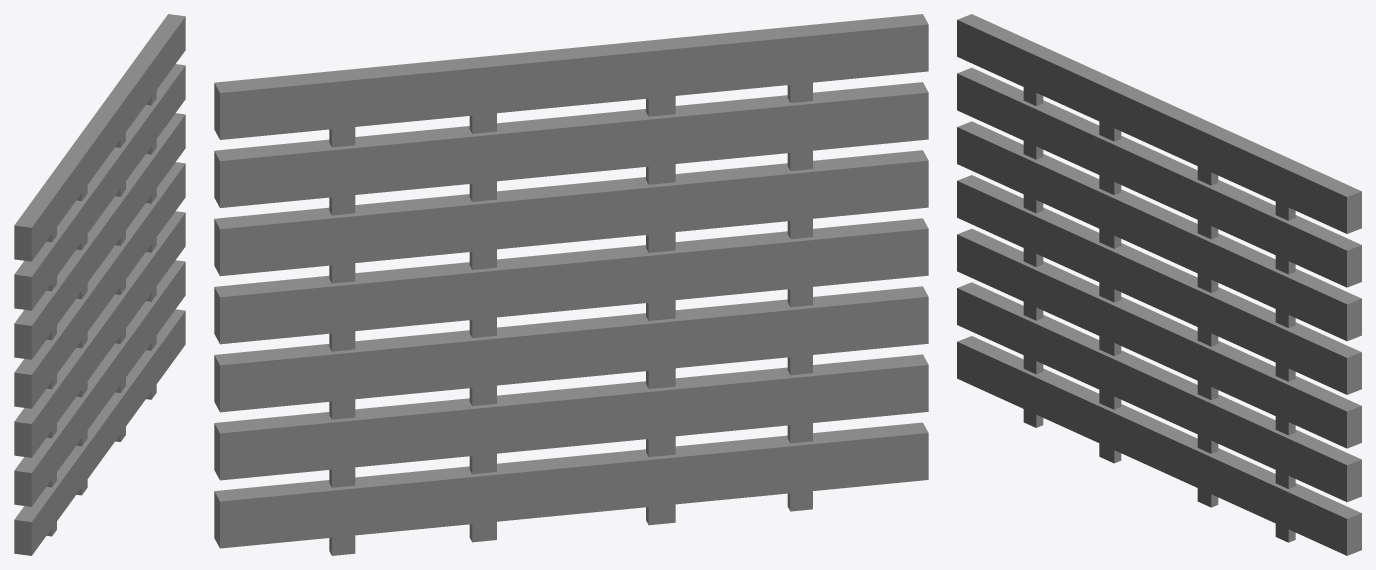
The model's file is Blinds A - 1.fbx.
3 views of the same model, side by side, from view 1: azimuth 30°, elevation 25°; view 2: azimuth 150°, elevation 25°; view 3: azimuth 270°, elevation 25° (orthographic). The views are drawn at different scales.
Parts seen in each view (by area): view 1: Blinds A - 1; view 2: Blinds A - 1; view 3: Blinds A - 1.
Part boxes in pixels (x1,y1,x2,y2): Blinds A - 1: (14,14,185,555); Blinds A - 1: (214,14,928,555); Blinds A - 1: (957,14,1361,555).
Size of the model in its own units: 205 by 191 by 196.
